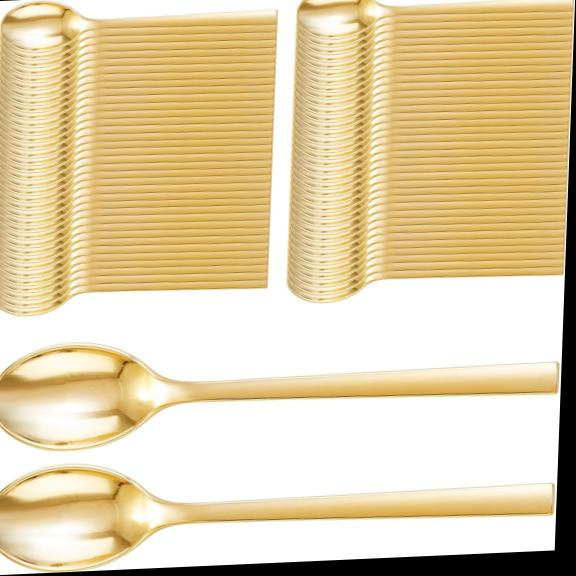Plastik: (0, 324, 555, 451), (0, 343, 558, 449), (0, 465, 553, 571)
